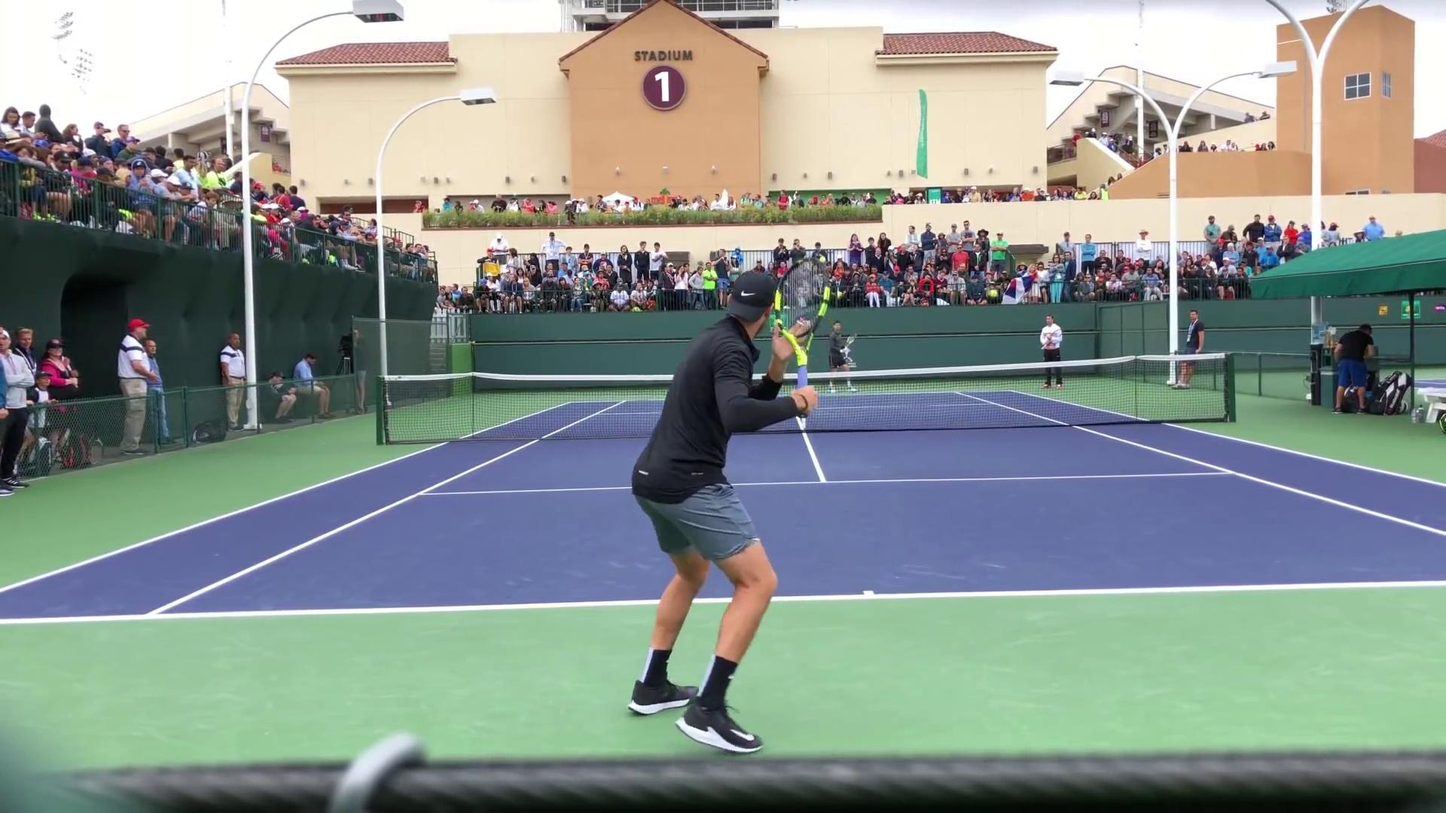ball: (818, 256, 826, 262)
